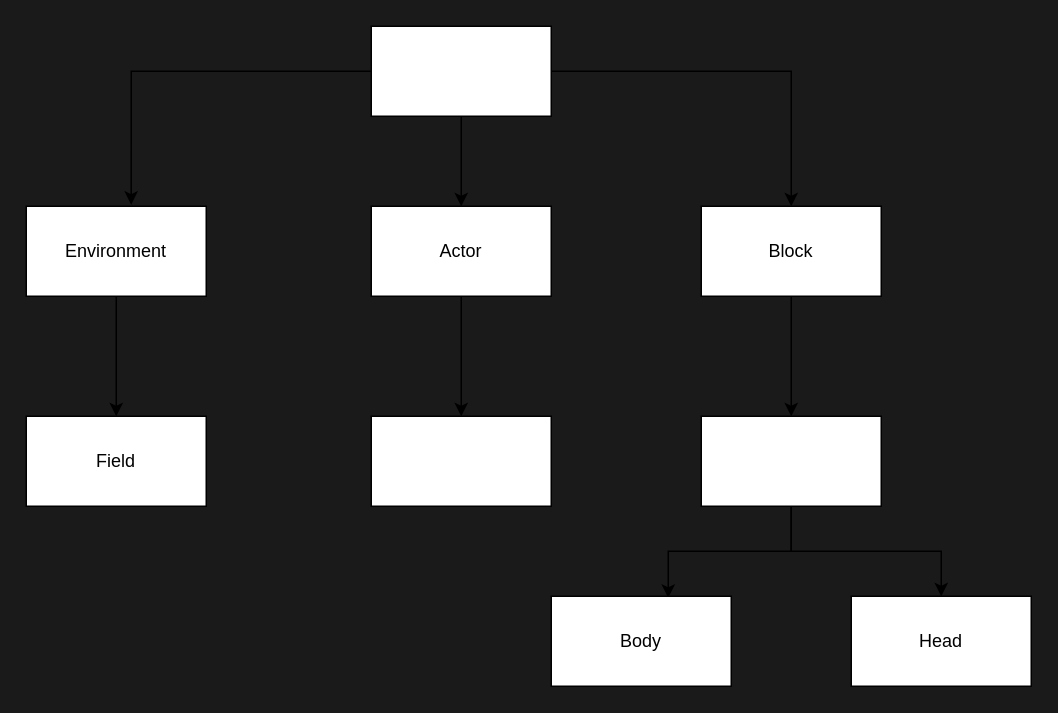
Image size: 1058x713. Some labels were removed from this diagram. The centre of each missing label's shape, as x and y in pixels:
GameObject: (460,70)
Part: (790,460)
Snake: (460,460)
